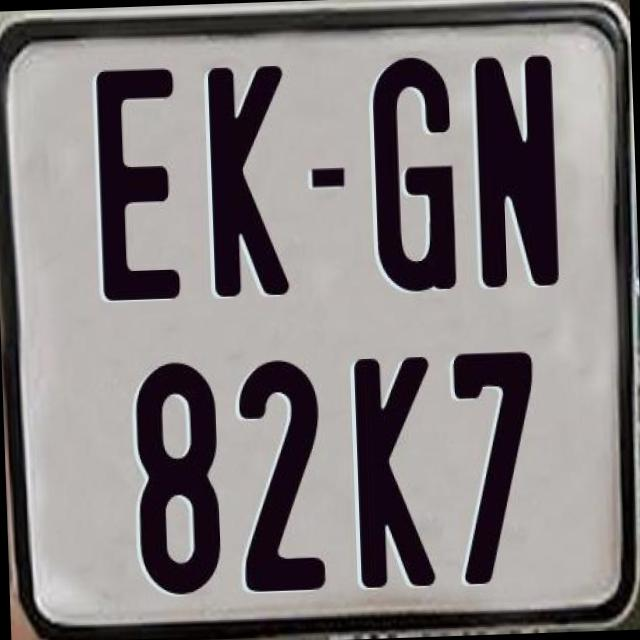2: (236, 358, 330, 602)
7: (450, 350, 540, 588)
8: (130, 357, 220, 595)
E: (94, 62, 182, 306)
G: (368, 55, 453, 296)
K: (352, 352, 443, 590), (203, 64, 290, 298)
N: (469, 51, 556, 286)
